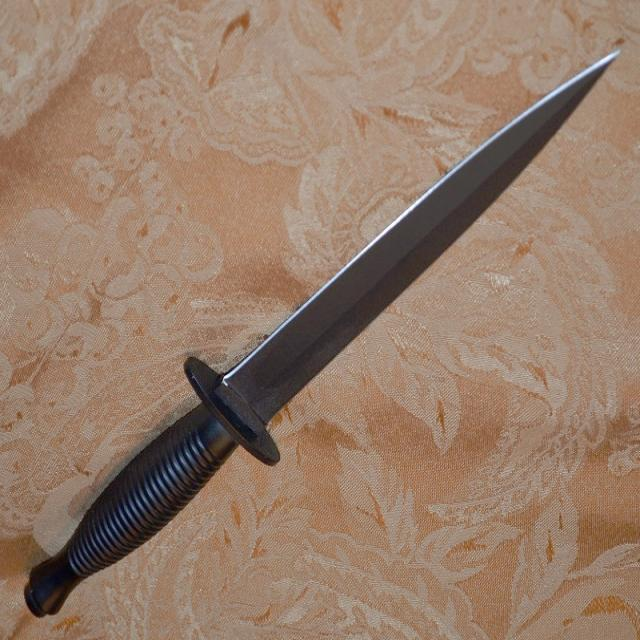Gun: (16, 37, 632, 630)
